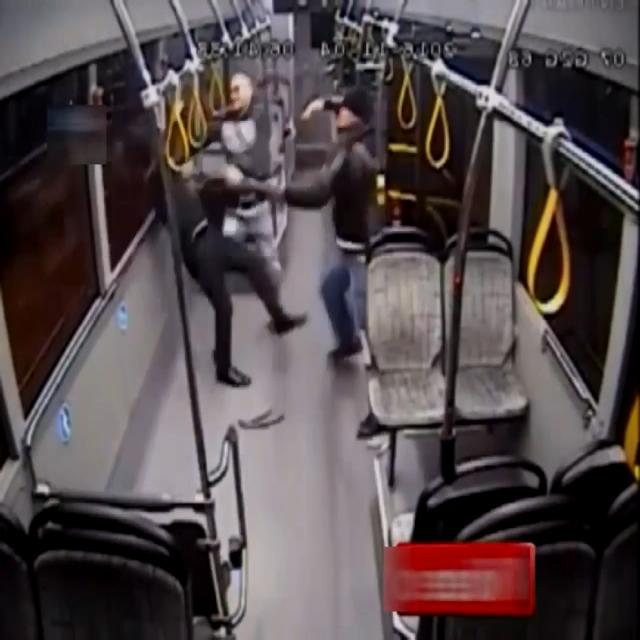fight: (159, 83, 396, 360)
